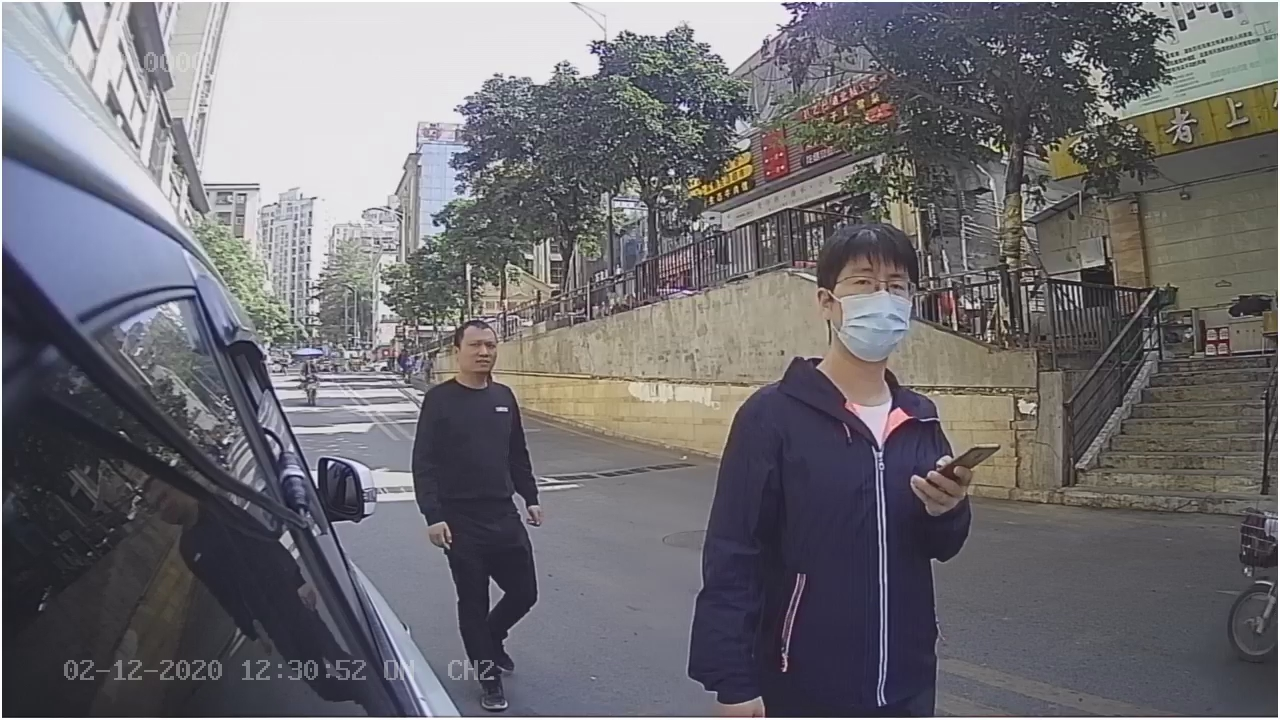person: (692, 209, 985, 565), (408, 315, 549, 554)
